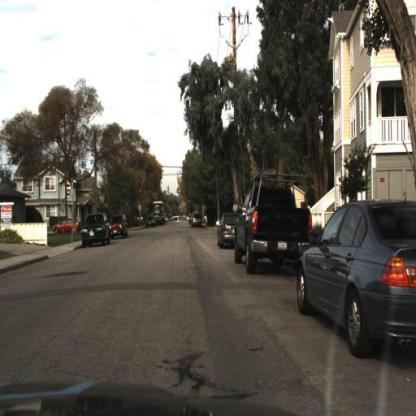car: (296, 200, 416, 362), (232, 181, 315, 278), (216, 209, 242, 253), (82, 213, 111, 247), (52, 215, 82, 241), (107, 215, 132, 242), (52, 220, 83, 234), (191, 215, 205, 228), (146, 216, 157, 229)
truck: (153, 200, 166, 225)
